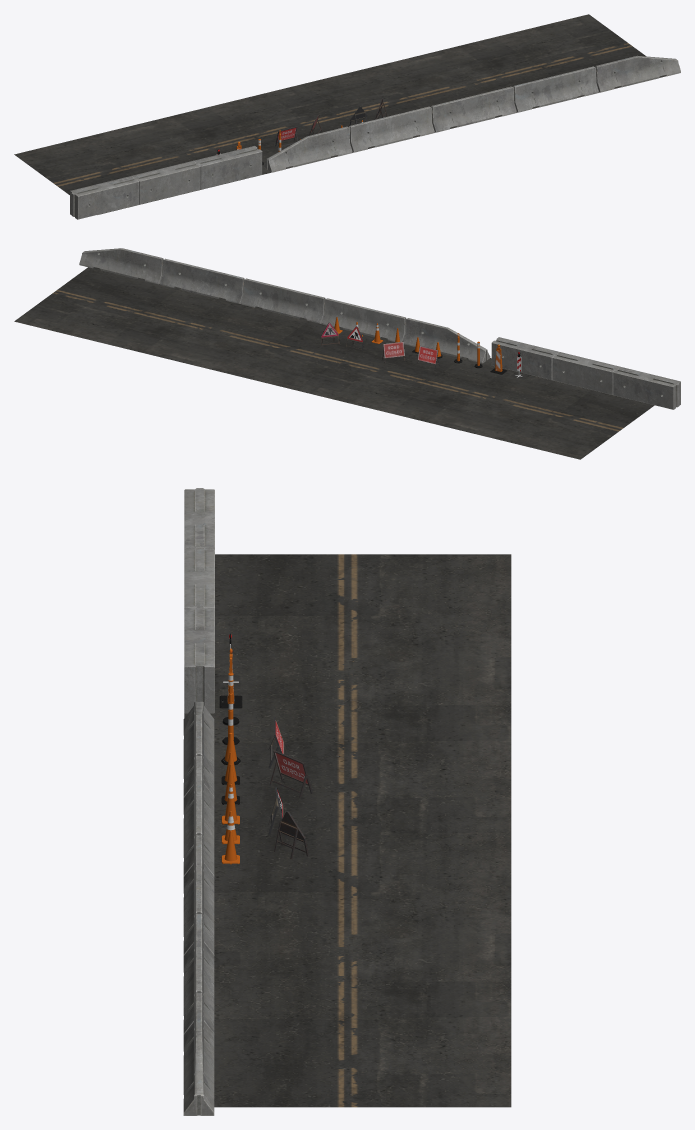
File: road_pack.glb
3 renders of one model, top to bottom at view 1: azimuth 30°, elevation 25°; view 2: azimuth 150°, elevation 25°; view 3: azimuth 270°, elevation 25°, orthographic. The views are drawn at different scales.
Visible parts, largest first — view 1: StraightRoad1_RoadShader_0_50, StraightRoad_RoadShader_0_48, BarrierA02_ConcreteBarrierAShader_0_2, BarrierA01_ConcreteBarrierAShader_0_0, BarrierA03_ConcreteBarrierAShader_0_4, BarrierCapA01_ConcreteBarrierAShader_0_12, BarrierB01_ConcreteBarrierBShader_0_6, BarrierCapA02_ConcreteBarrierAShader_0_14, BarrierB03_ConcreteBarrierBShader_0_10, BarrierB02_ConcreteBarrierBShader_0_8; view 2: StraightRoad1_RoadShader_0_50, StraightRoad_RoadShader_0_48, BarrierA02_ConcreteBarrierAShader_0_2, BarrierA03_ConcreteBarrierAShader_0_4, BarrierA01_ConcreteBarrierAShader_0_0, BarrierB01_ConcreteBarrierBShader_0_6, BarrierCapA02_ConcreteBarrierAShader_0_14, BarrierCapA01_ConcreteBarrierAShader_0_12, BarrierB02_ConcreteBarrierBShader_0_8, BarrierB03_ConcreteBarrierBShader_0_10; view 3: StraightRoad1_RoadShader_0_50, StraightRoad_RoadShader_0_48, BarrierB03_ConcreteBarrierBShader_0_10, BarrierCapA02_ConcreteBarrierAShader_0_14, BarrierA03_ConcreteBarrierAShader_0_4, BarrierA01_ConcreteBarrierAShader_0_0, BarrierA02_ConcreteBarrierAShader_0_2, BarrierCapA01_ConcreteBarrierAShader_0_12, BarrierB02_ConcreteBarrierBShader_0_8, BarrierB01_ConcreteBarrierBShader_0_6.
Part boxes in pixels (x1,y1,x2,y2): StraightRoad1_RoadShader_0_50: (302, 14, 666, 137); StraightRoad_RoadShader_0_48: (14, 84, 375, 214); BarrierA02_ConcreteBarrierAShader_0_2: (431, 86, 516, 132); BarrierA01_ConcreteBarrierAShader_0_0: (349, 106, 434, 152); BarrierA03_ConcreteBarrierAShader_0_4: (513, 66, 598, 112); BarrierCapA01_ConcreteBarrierAShader_0_12: (264, 126, 352, 172); BarrierB01_ConcreteBarrierBShader_0_6: (70, 176, 138, 219); BarrierCapA02_ConcreteBarrierAShader_0_14: (595, 55, 680, 92); BarrierB03_ConcreteBarrierBShader_0_10: (193, 146, 262, 189); BarrierB02_ConcreteBarrierBShader_0_8: (132, 161, 200, 204); StraightRoad1_RoadShader_0_50: (14, 267, 370, 390); StraightRoad_RoadShader_0_48: (297, 336, 654, 459); BarrierA02_ConcreteBarrierAShader_0_2: (241, 278, 325, 323); BarrierA03_ConcreteBarrierAShader_0_4: (160, 258, 244, 303); BarrierA01_ConcreteBarrierAShader_0_0: (322, 298, 406, 341); BarrierB01_ConcreteBarrierBShader_0_6: (613, 366, 680, 409); BarrierCapA02_ConcreteBarrierAShader_0_14: (79, 248, 163, 284); BarrierCapA01_ConcreteBarrierAShader_0_12: (403, 318, 490, 363); BarrierB02_ConcreteBarrierBShader_0_8: (552, 352, 619, 394); BarrierB03_ConcreteBarrierBShader_0_10: (491, 337, 558, 379); StraightRoad1_RoadShader_0_50: (214, 830, 511, 1107); StraightRoad_RoadShader_0_48: (184, 554, 511, 830); BarrierB03_ConcreteBarrierBShader_0_10: (184, 606, 214, 713); BarrierCapA02_ConcreteBarrierAShader_0_14: (183, 993, 214, 1115); BarrierA03_ConcreteBarrierAShader_0_4: (183, 914, 214, 1034); BarrierA01_ConcreteBarrierAShader_0_0: (183, 756, 214, 876); BarrierA02_ConcreteBarrierAShader_0_2: (183, 835, 214, 955); BarrierCapA01_ConcreteBarrierAShader_0_12: (183, 701, 214, 797); BarrierB02_ConcreteBarrierBShader_0_8: (184, 547, 214, 608); BarrierB01_ConcreteBarrierBShader_0_6: (184, 488, 214, 548).
Size of the model in its own units: 29.44 by 1.34 by 7.01.
Materials: 8 (8 with a texture image).
